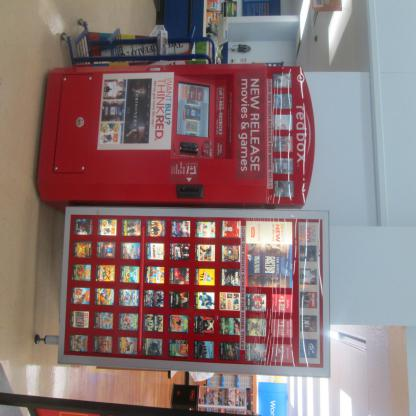book: (119, 264, 141, 285), (220, 291, 241, 313), (245, 340, 266, 362), (220, 268, 241, 288), (144, 337, 164, 357), (168, 314, 188, 334), (193, 290, 214, 309), (219, 342, 240, 361), (168, 242, 190, 260), (245, 318, 267, 336), (71, 262, 90, 282), (220, 316, 240, 335), (245, 292, 266, 310), (300, 336, 317, 358), (94, 312, 114, 330), (118, 312, 138, 330), (144, 313, 164, 331), (196, 244, 216, 262), (220, 220, 240, 238), (222, 244, 240, 264), (193, 341, 214, 358), (69, 334, 88, 352), (118, 336, 137, 354), (120, 288, 139, 306), (145, 289, 164, 307), (196, 315, 214, 334), (197, 220, 216, 238), (120, 242, 140, 259), (94, 335, 112, 353), (96, 239, 114, 257), (146, 242, 164, 260), (170, 340, 188, 358), (146, 266, 165, 283), (171, 221, 190, 238), (169, 292, 189, 308), (71, 310, 88, 328), (75, 218, 92, 236), (96, 264, 114, 281), (171, 266, 188, 284), (300, 291, 317, 309), (300, 314, 317, 332), (95, 288, 114, 304), (99, 218, 116, 235), (71, 288, 89, 304), (74, 240, 90, 258), (122, 218, 140, 234), (300, 244, 316, 262), (300, 266, 316, 284), (146, 222, 165, 237)
